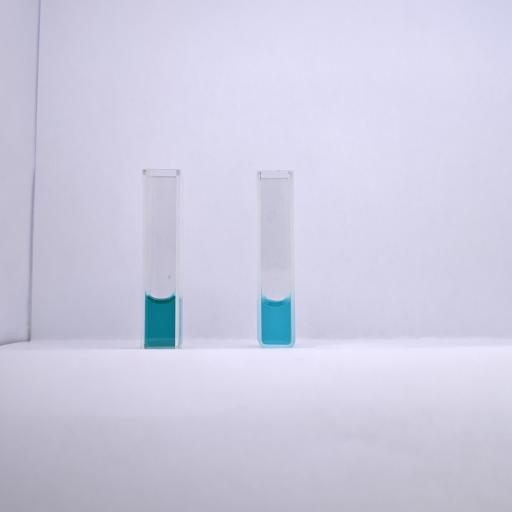cuvette: (139, 165, 182, 352), (254, 169, 298, 349)
liquid: (144, 296, 176, 346), (261, 297, 292, 345)
